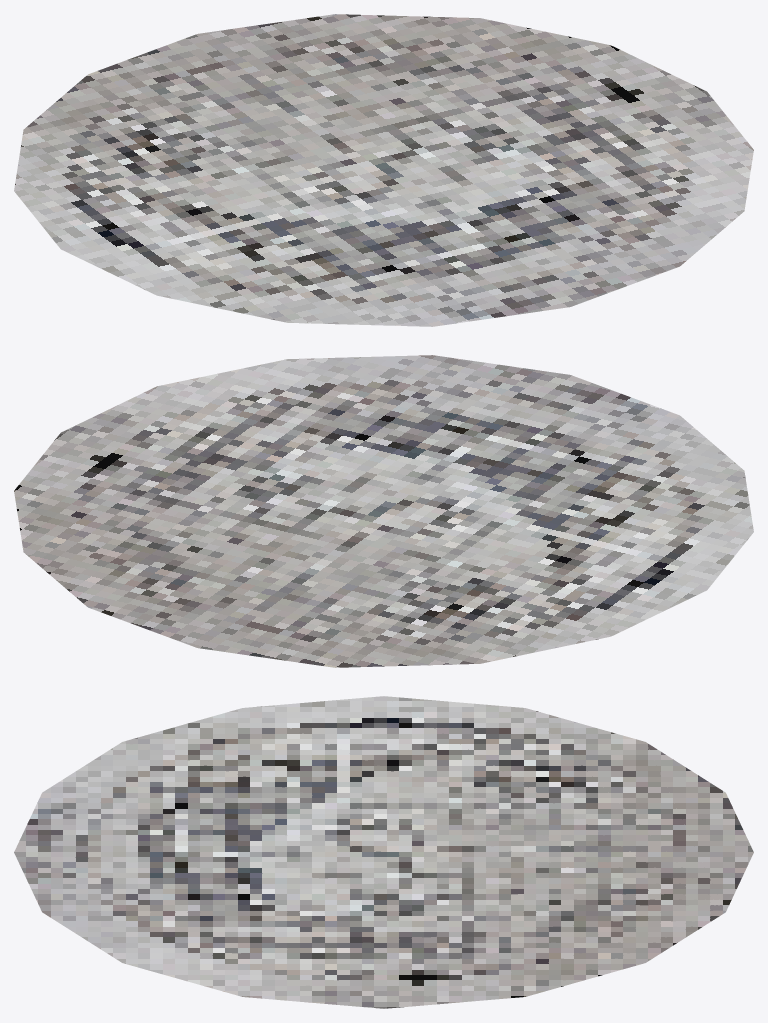
Rendered from manholeCover.fbx.
3 renders of one model, top to bottom at view 1: azimuth 30°, elevation 25°; view 2: azimuth 150°, elevation 25°; view 3: azimuth 270°, elevation 25°, orthographic.
Visible parts, largest first — view 1: manholeCover; view 2: manholeCover; view 3: manholeCover.
Part boxes in pixels (x1,y1,x2,y2): manholeCover: (14, 14, 753, 326); manholeCover: (14, 355, 753, 667); manholeCover: (14, 696, 753, 1008).
Size of the model in its own units: 200 by 3.26e-05 by 200.
